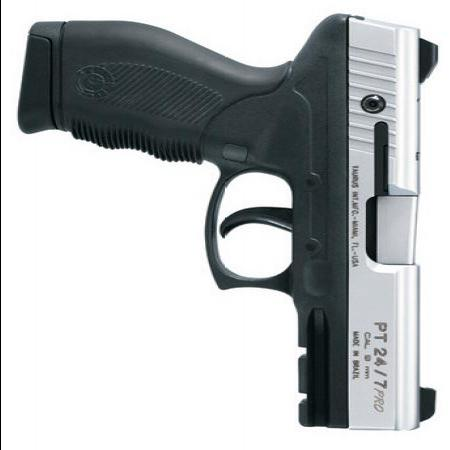Pistol: (32, 15, 439, 429)
